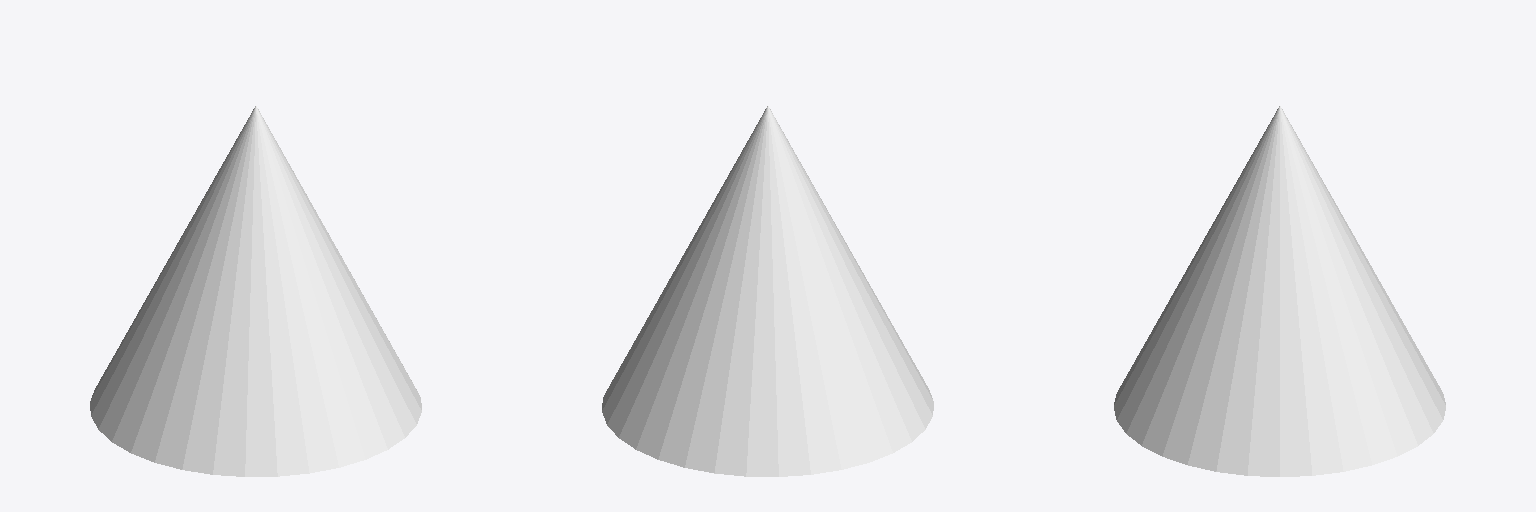
The model's file is cone_bulb.obj.
3 views of the same model, side by side, from view 1: azimuth 30°, elevation 25°; view 2: azimuth 150°, elevation 25°; view 3: azimuth 270°, elevation 25° (orthographic).
Parts seen in each view (by area): view 1: Cone.001; view 2: Cone.001; view 3: Cone.001.
Boxes of the visible parts, box(x1,y1,x2,y2) form: Cone.001: box(90, 106, 421, 476); Cone.001: box(602, 106, 933, 476); Cone.001: box(1114, 106, 1445, 476).
Bounding box in the file's own units: 0.9578 × 0.9578 × 0.9578.